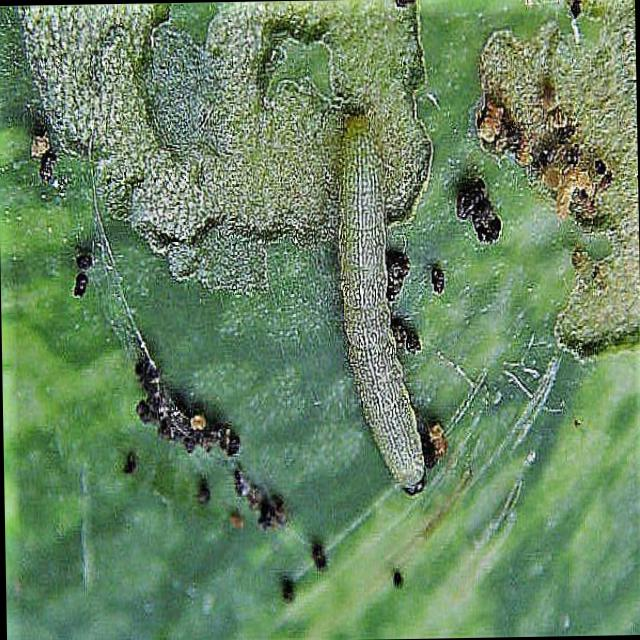Armyworm: (314, 113, 460, 500)
